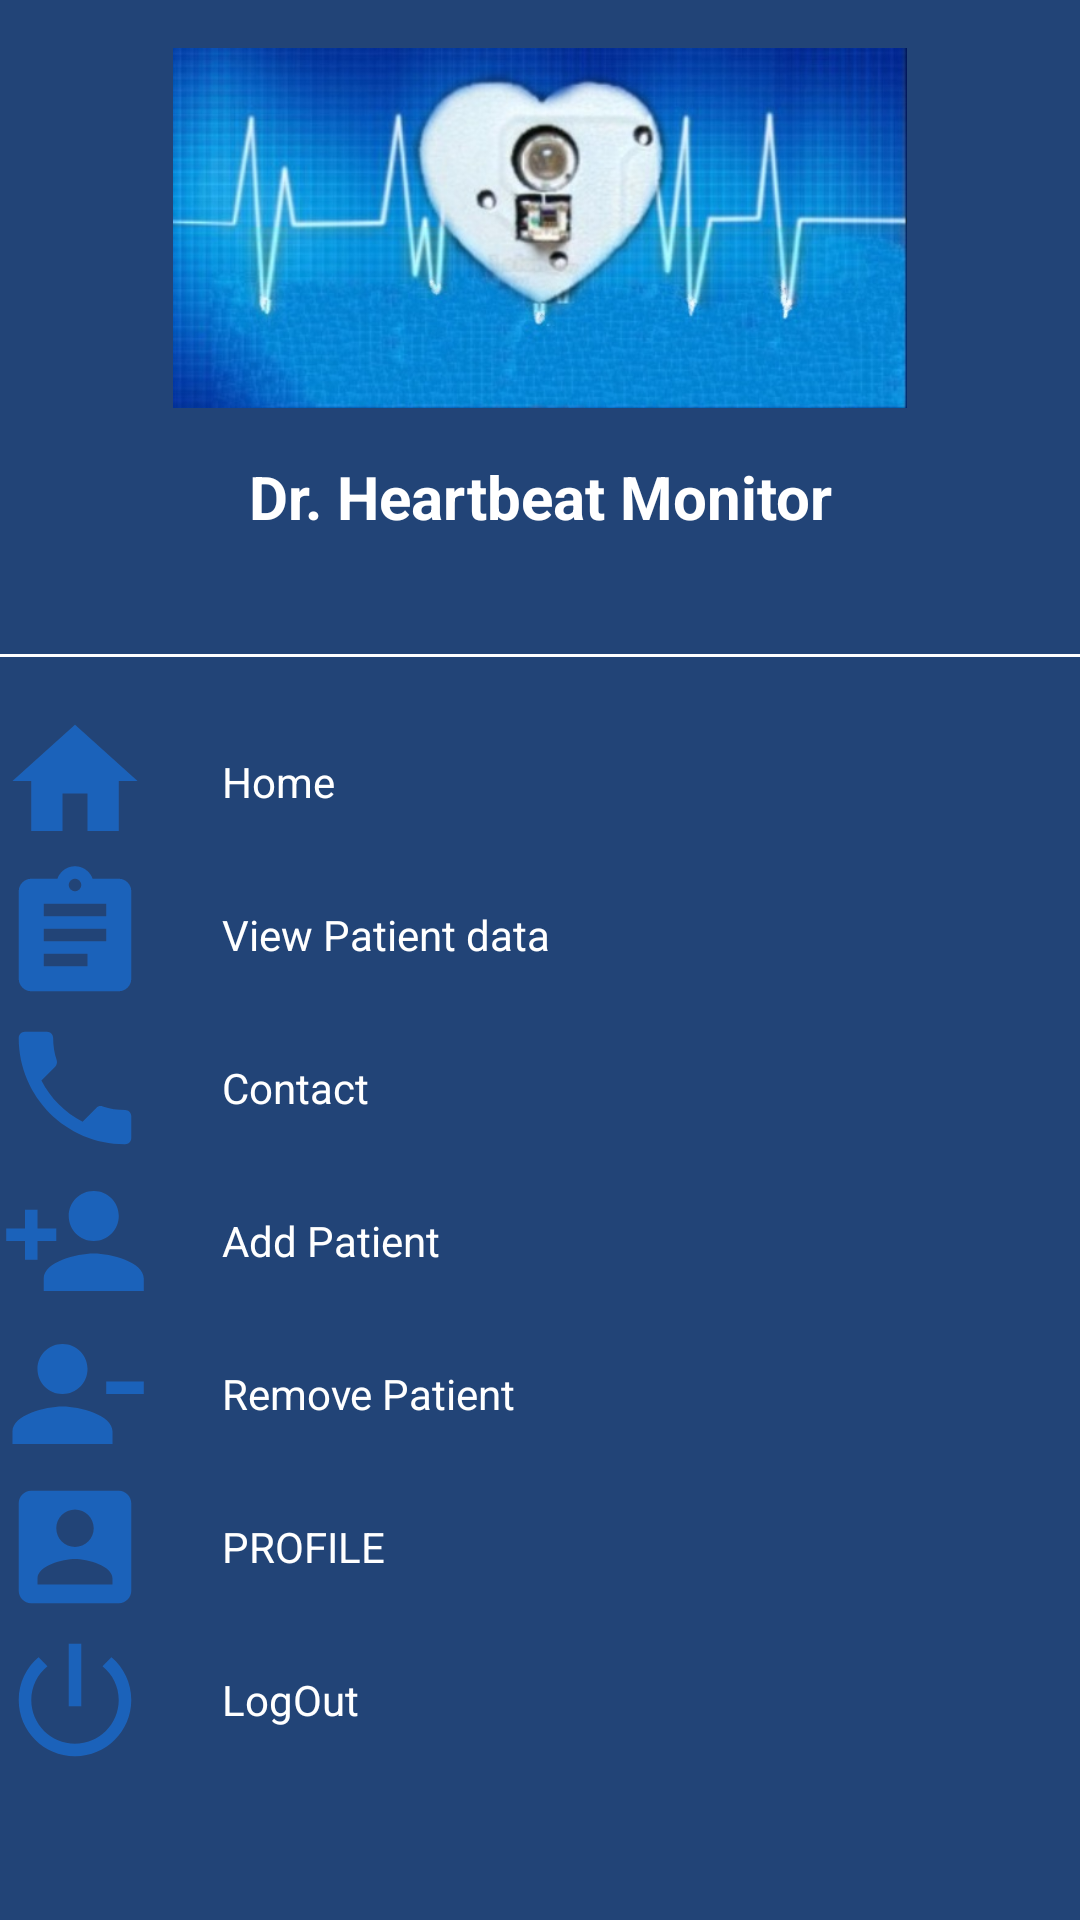

Screen size 1080w x 1920h. Icon name, then its box in pixels as (x1, y1, x2, y2):
person add: (6, 1191, 144, 1291)
report: (19, 866, 131, 991)
